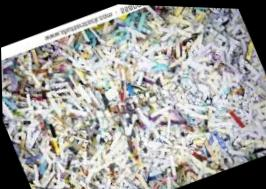paper: (2, 5, 265, 188)
